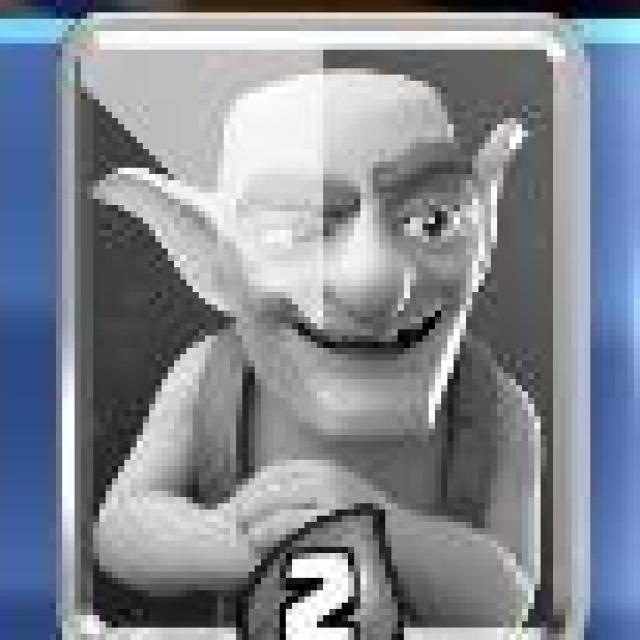Goblins: (51, 12, 584, 640)
